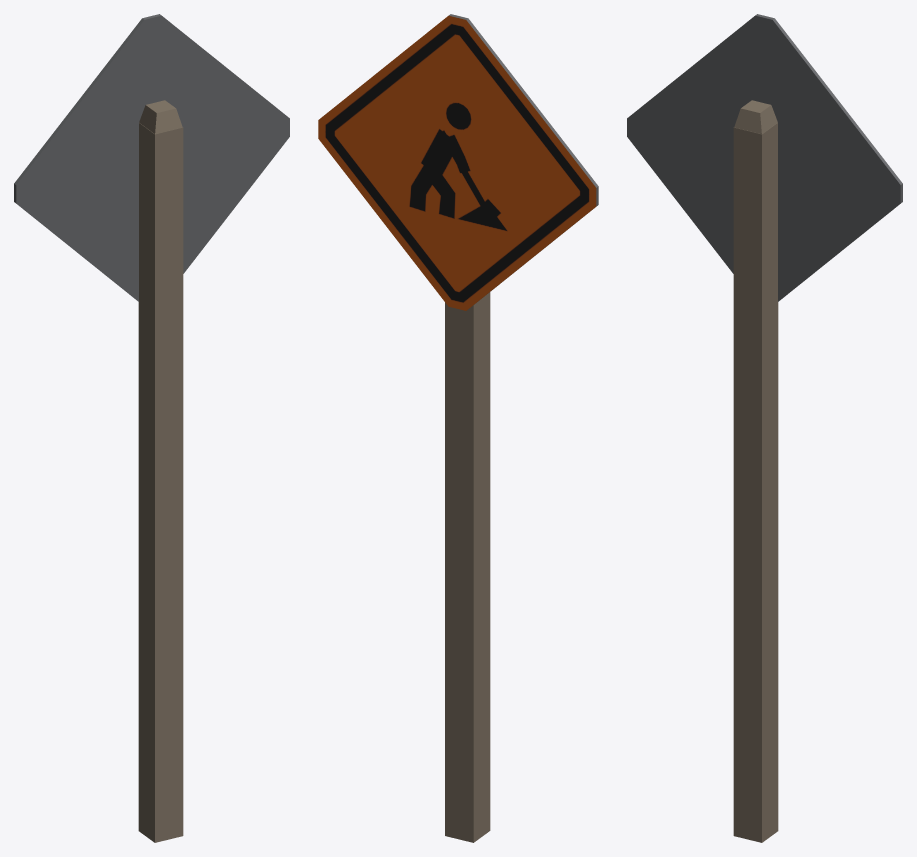
The model's file is work-sign-worker.glb.
3 renders of one model, left to right at view 1: azimuth 30°, elevation 25°; view 2: azimuth 150°, elevation 25°; view 3: azimuth 330°, elevation 25°, orthographic.
Visible parts, largest first — view 1: work-sign-worker; view 2: work-sign-worker; view 3: work-sign-worker.
Part boxes in pixels (<box>): work-sign-worker: <box>14,14,289,842</box>; work-sign-worker: <box>318,14,598,842</box>; work-sign-worker: <box>627,14,902,842</box>.
Bounding box in the file's own units: 0.8592 × 2.43 × 0.099.
3 materials, 1 textured.
